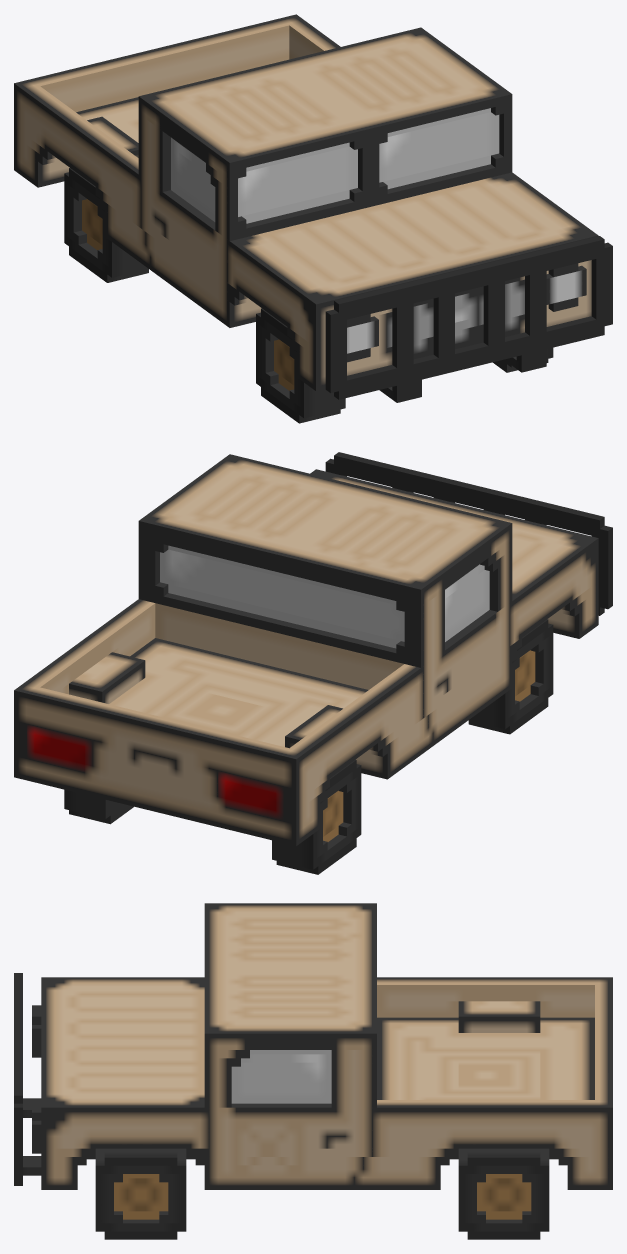
Rendered from Car_1.fbx.
The picture shows the model from 3 angles, top to bottom: view 1: azimuth 30°, elevation 25°; view 2: azimuth 150°, elevation 25°; view 3: azimuth 270°, elevation 25°; orthographic projection. The views are drawn at different scales.
Visible parts, largest first — view 1: Matrix_3; view 2: Matrix_3; view 3: Matrix_3.
Part boxes in pixels (left/top/right/bottom): Matrix_3: left=14, top=14, right=612, bottom=423; Matrix_3: left=14, top=452, right=612, bottom=874; Matrix_3: left=14, top=903, right=612, bottom=1239.
Bounding box in the file's own units: 34 × 26 × 66.
